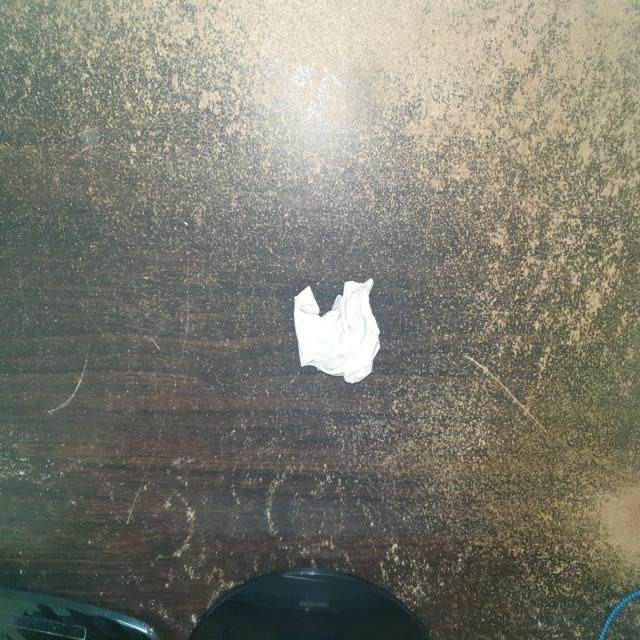kertas: (290, 276, 384, 384)
